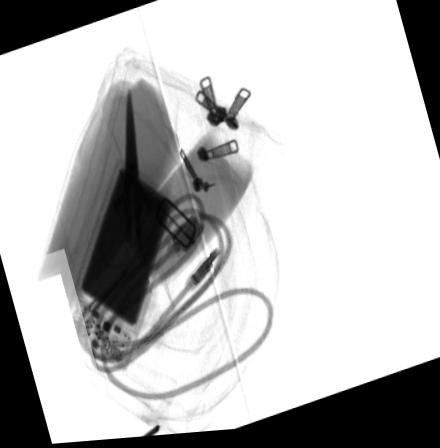Powerbank: (63, 166, 175, 379)
Scissors: (97, 83, 162, 288)
